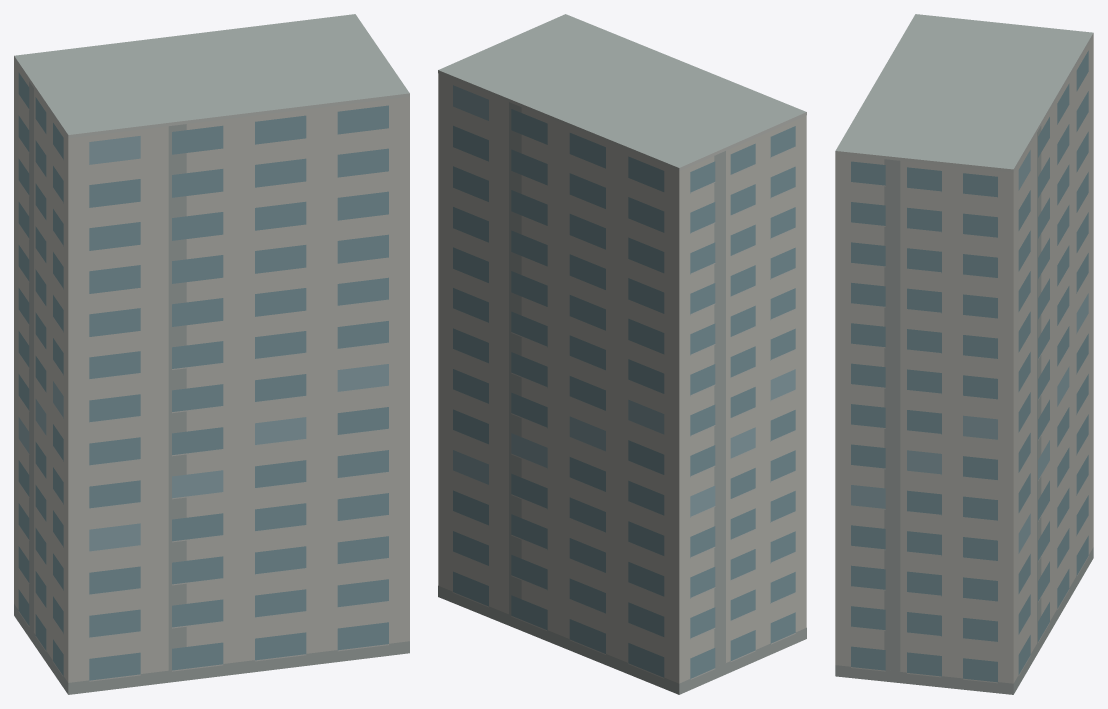
Rendered from residential-87e828fe-334e-496a-a7dc-1f0d8d4611f6.glb.
The picture shows the model from 3 angles, left to right: view 1: azimuth 30°, elevation 25°; view 2: azimuth 150°, elevation 25°; view 3: azimuth 270°, elevation 25°; orthographic projection. The views are drawn at different scales.
Parts seen in each view (by area): view 1: residential-87e828fe-334e-496a-a7dc-1f0d8d4611f6.tmp; view 2: residential-87e828fe-334e-496a-a7dc-1f0d8d4611f6.tmp; view 3: residential-87e828fe-334e-496a-a7dc-1f0d8d4611f6.tmp.
Part boxes in pixels (bbox=[...]): residential-87e828fe-334e-496a-a7dc-1f0d8d4611f6.tmp: bbox=[14, 14, 409, 694]; residential-87e828fe-334e-496a-a7dc-1f0d8d4611f6.tmp: bbox=[438, 14, 806, 694]; residential-87e828fe-334e-496a-a7dc-1f0d8d4611f6.tmp: bbox=[835, 14, 1093, 694].
Size of the model in its own units: 25.39 by 40 by 17.82.
